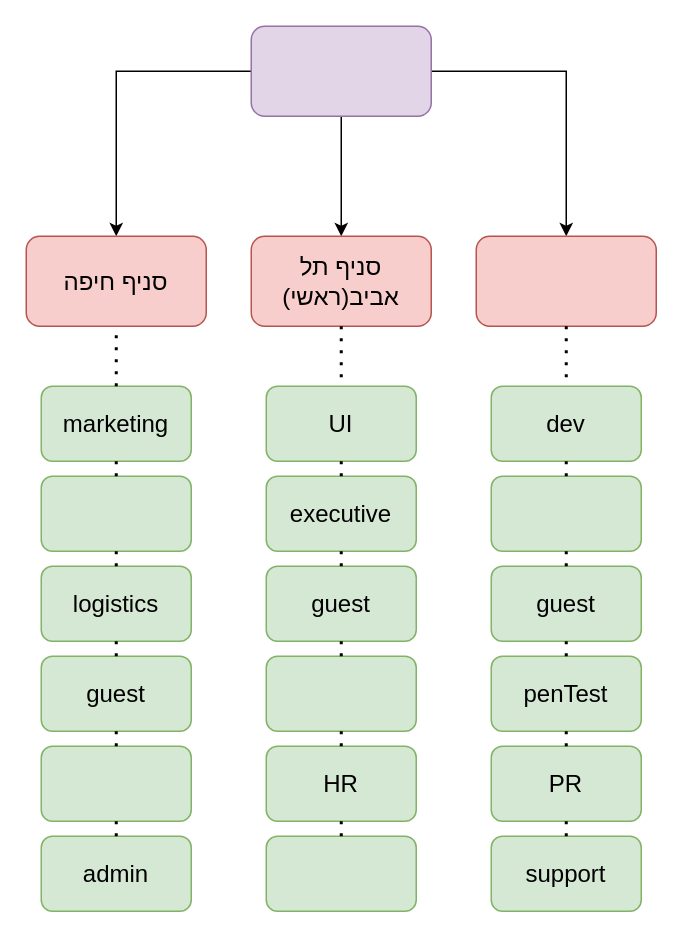
This 683x938 diagram has some shape labels left out. The shapes that lost their labels are listed below. From the top down, each one's box as (x1, y1, x2, y2) in pixels, then its label:
(250, 25, 431, 116): BlueSpace
(475, 235, 656, 326): סניף הרצליה
(40, 475, 191, 551): legal
(490, 475, 641, 551): QA
(265, 655, 416, 731): security
(40, 745, 191, 821): cyberSec
(265, 835, 416, 911): accounting
